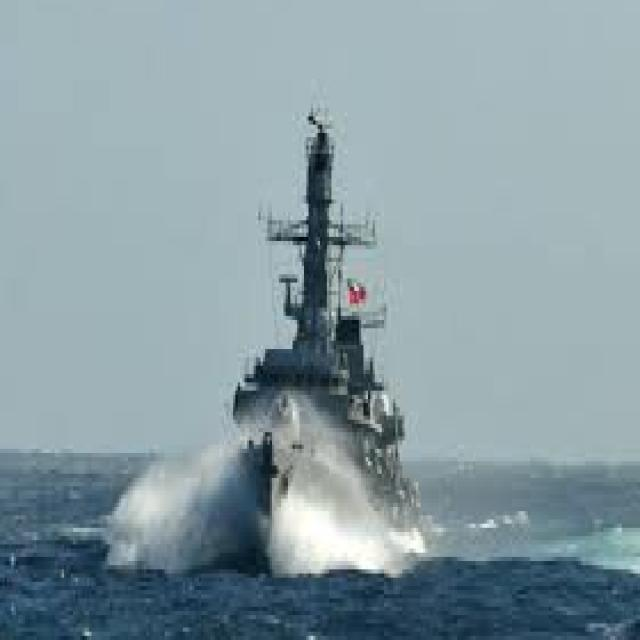navalvessels: (131, 94, 426, 591)
